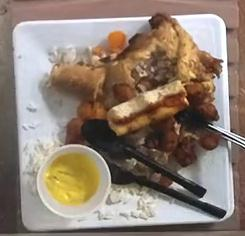carrots: (99, 31, 127, 60)
chicken: (105, 14, 220, 94)
pizza_crust: (107, 80, 189, 136), (51, 64, 106, 100)
unknown: (145, 110, 221, 167), (65, 101, 107, 144)
